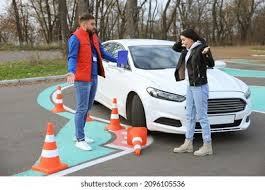car: (91, 39, 251, 134)
cone: (32, 122, 69, 175), (105, 97, 125, 132), (127, 126, 147, 156), (51, 86, 68, 114)
